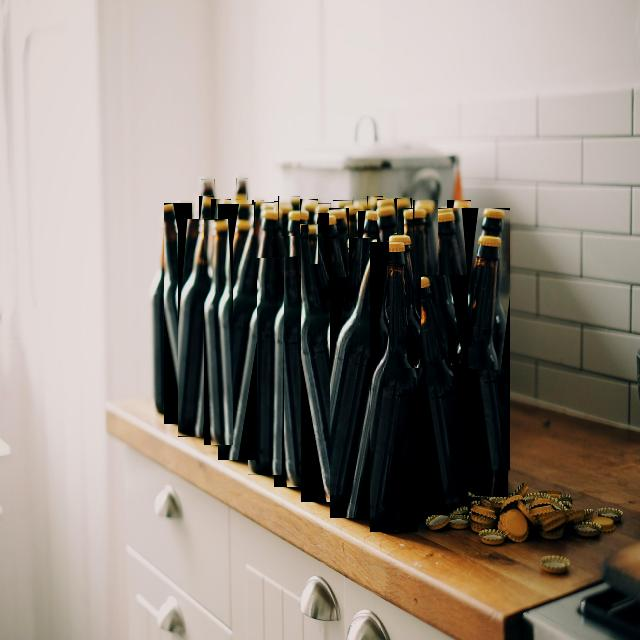Bottle: (370, 242, 418, 532), (330, 238, 379, 517), (460, 236, 508, 497), (418, 276, 468, 515), (302, 213, 343, 501), (275, 211, 312, 486), (248, 209, 284, 475), (219, 205, 256, 460), (178, 220, 212, 437), (204, 220, 232, 444), (164, 203, 191, 423), (150, 217, 176, 413), (438, 208, 468, 373), (390, 235, 421, 367), (405, 209, 433, 321), (358, 211, 382, 321), (494, 257, 510, 397), (448, 200, 471, 295), (413, 200, 437, 273), (494, 260, 509, 368), (211, 200, 230, 278), (329, 208, 349, 275), (275, 202, 297, 255), (256, 202, 277, 257), (377, 206, 396, 247), (200, 196, 213, 246), (346, 204, 363, 237), (253, 200, 263, 256), (396, 198, 411, 234), (300, 199, 318, 223), (314, 203, 330, 223), (309, 224, 317, 264), (202, 179, 214, 199), (367, 196, 383, 210), (237, 179, 247, 200), (353, 198, 368, 210), (289, 197, 300, 210), (335, 200, 352, 208)
